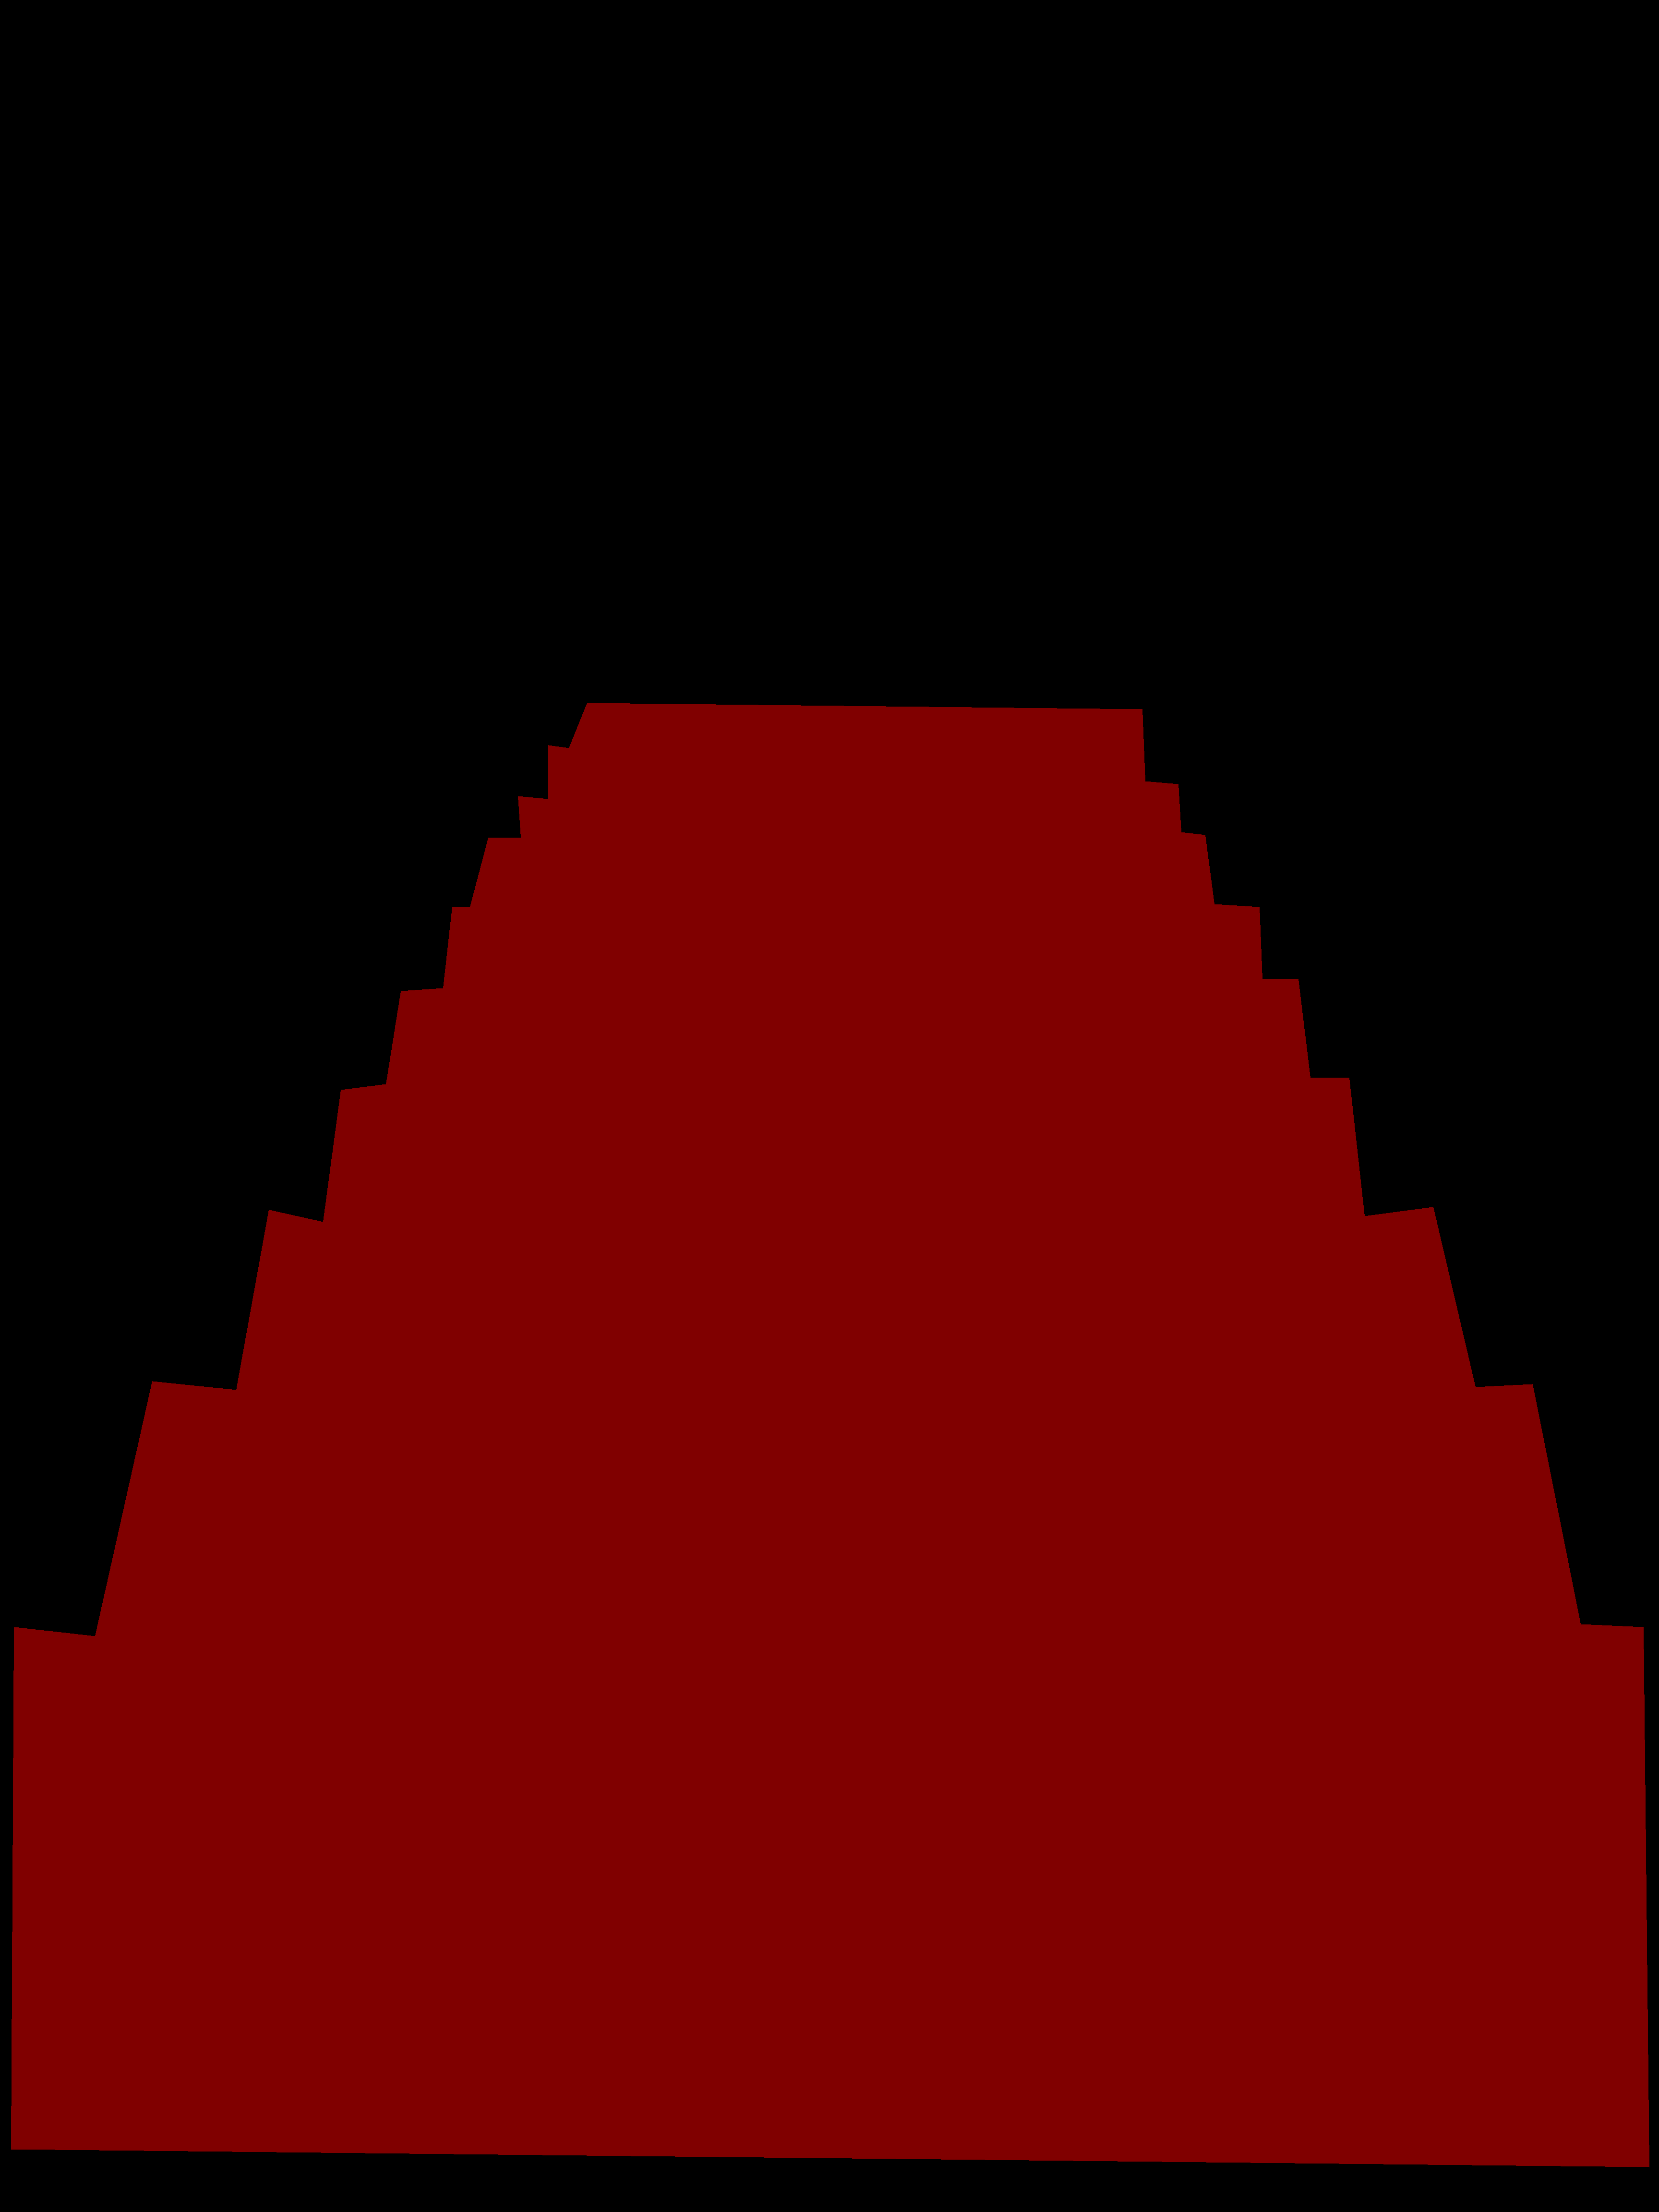stair: (10, 702, 1649, 2167)
